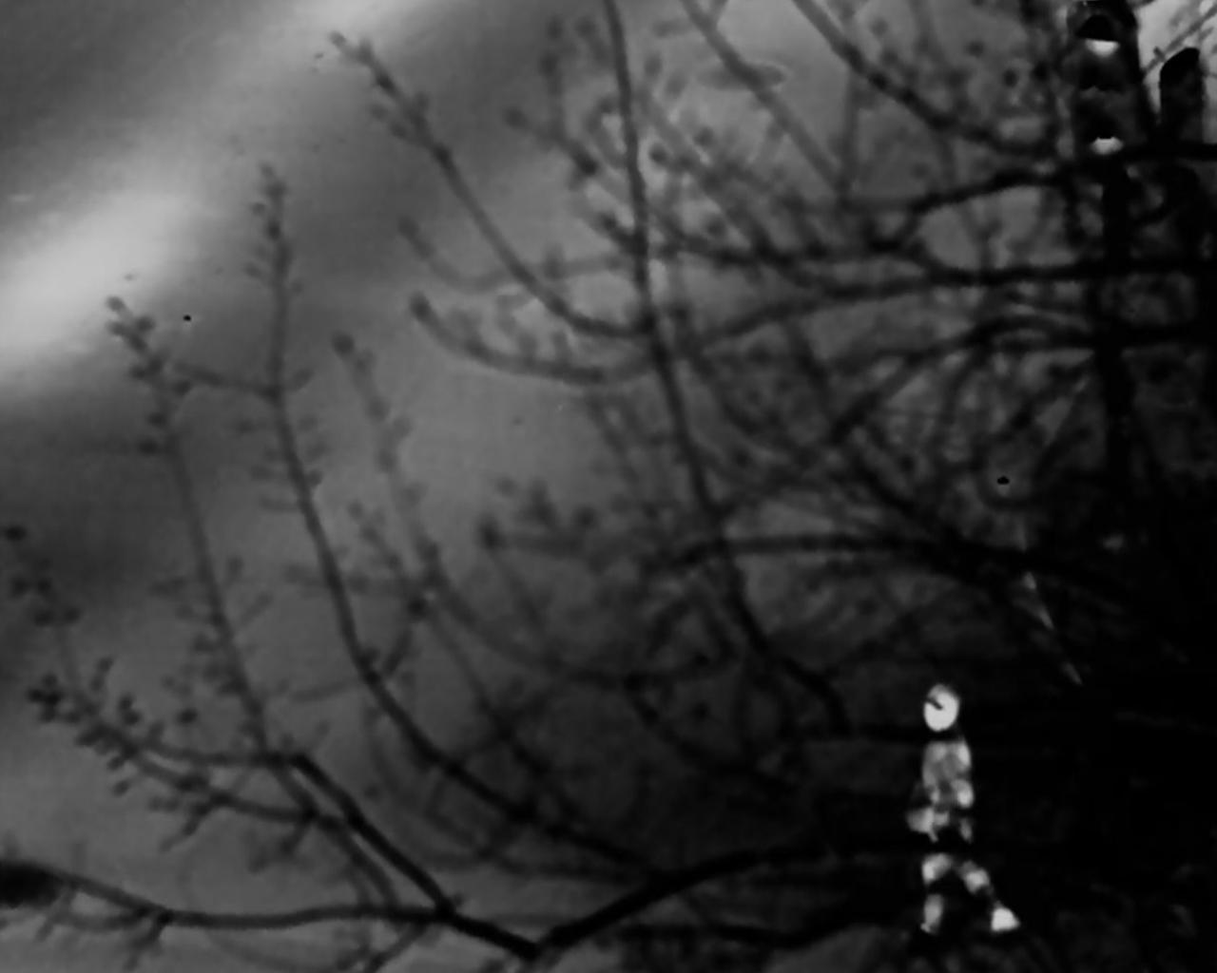person: (908, 676, 1008, 932)
